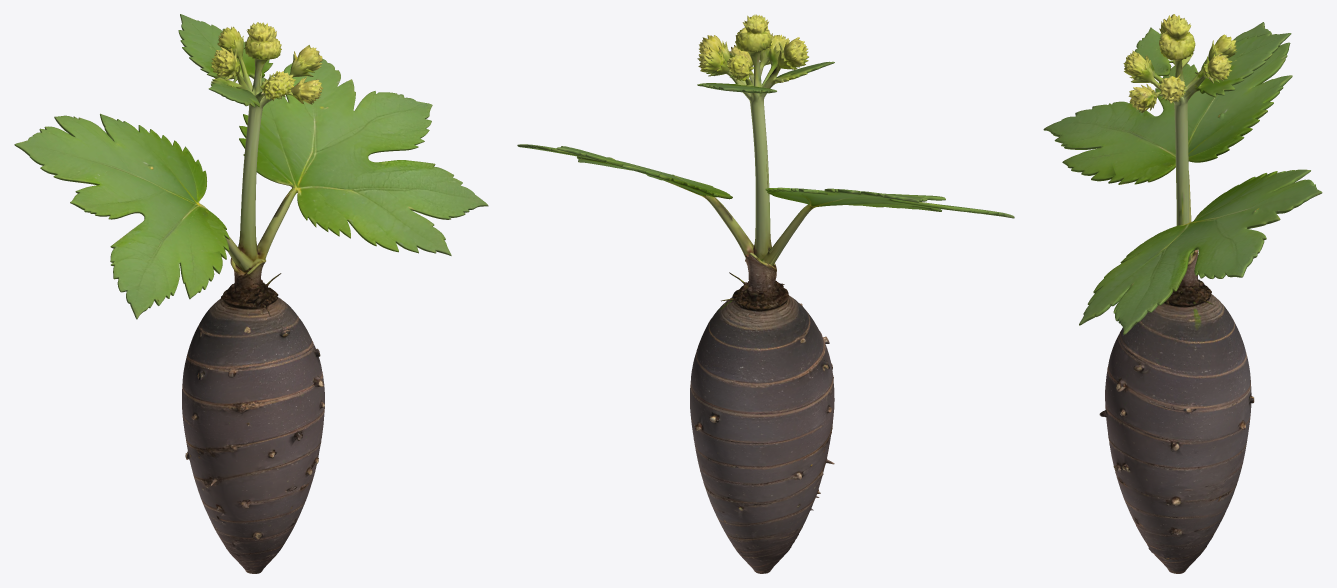
Rendered from sanqi.glb.
3 views of the same model, side by side, from view 1: azimuth 30°, elevation 25°; view 2: azimuth 150°, elevation 25°; view 3: azimuth 270°, elevation 25° (orthographic).
Visible parts, largest first — view 1: node_0; view 2: node_0; view 3: node_0.
Boxes of the visible parts, bbox=[...] form: node_0: bbox=[14, 14, 488, 573]; node_0: bbox=[517, 14, 1014, 573]; node_0: bbox=[1043, 14, 1322, 573].
Size of the model in its own units: 0.9072 by 1.16 by 0.5298.
1 material, 1 textured.
